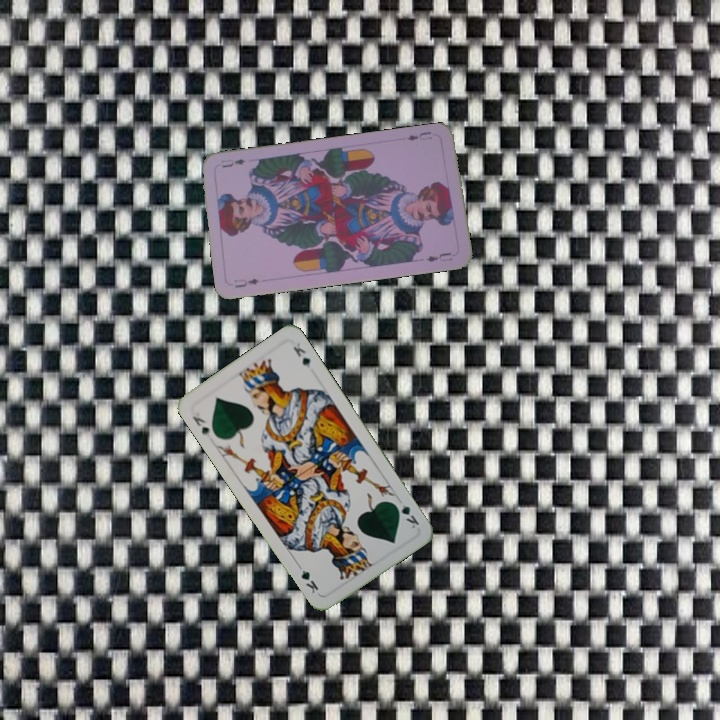EU: (403, 127, 434, 143), (230, 274, 261, 290)
GK: (390, 498, 422, 531), (188, 412, 212, 440)
